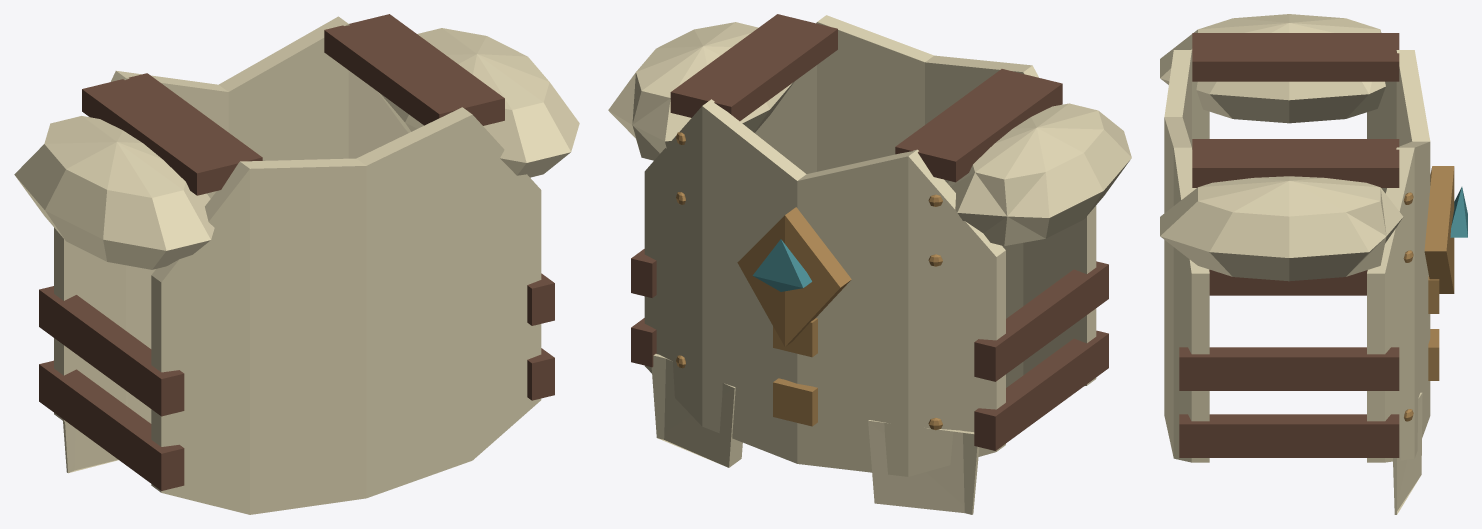
File: AE_Item_AbbeyReliquary.fbx
3 views of the same model, side by side, from view 1: azimuth 30°, elevation 25°; view 2: azimuth 150°, elevation 25°; view 3: azimuth 270°, elevation 25° (orthographic). The views are drawn at different scales.
Parts seen in each view (by area): view 1: AE_Item_AbbeyReliquary; view 2: AE_Item_AbbeyReliquary; view 3: AE_Item_AbbeyReliquary.
Boxes of the visible parts, bbox=[...] form: AE_Item_AbbeyReliquary: bbox=[14, 14, 579, 514]; AE_Item_AbbeyReliquary: bbox=[608, 14, 1131, 514]; AE_Item_AbbeyReliquary: bbox=[1160, 14, 1467, 514].
Bounding box in the file's own units: 0.8085 × 0.5824 × 0.4758.
